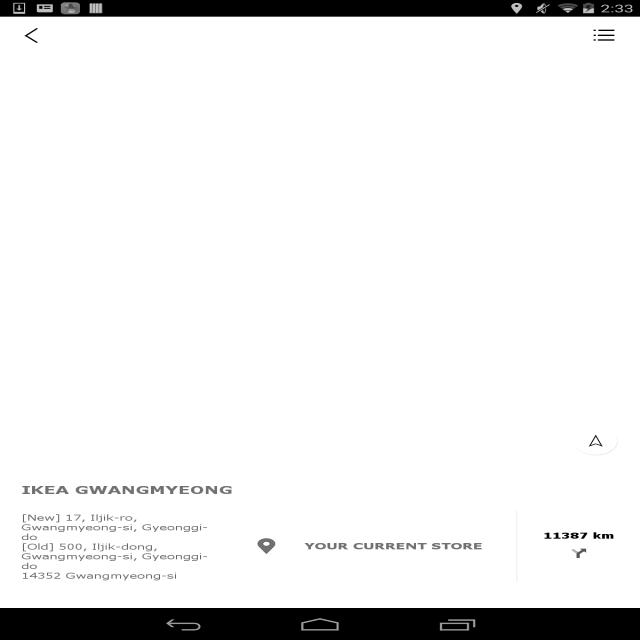Button: (559, 588, 623, 630), (2, 10, 64, 52), (559, 588, 623, 628)
EditText: (66, 16, 637, 46)
ImageView: (0, 17, 640, 608), (6, 17, 56, 54), (572, 427, 618, 456), (590, 26, 619, 44), (565, 545, 592, 562)
ProgressBar: (273, 283, 367, 342)
TextView: (64, 17, 576, 54), (21, 512, 218, 581), (21, 482, 619, 498), (251, 531, 483, 561), (538, 530, 618, 541)
